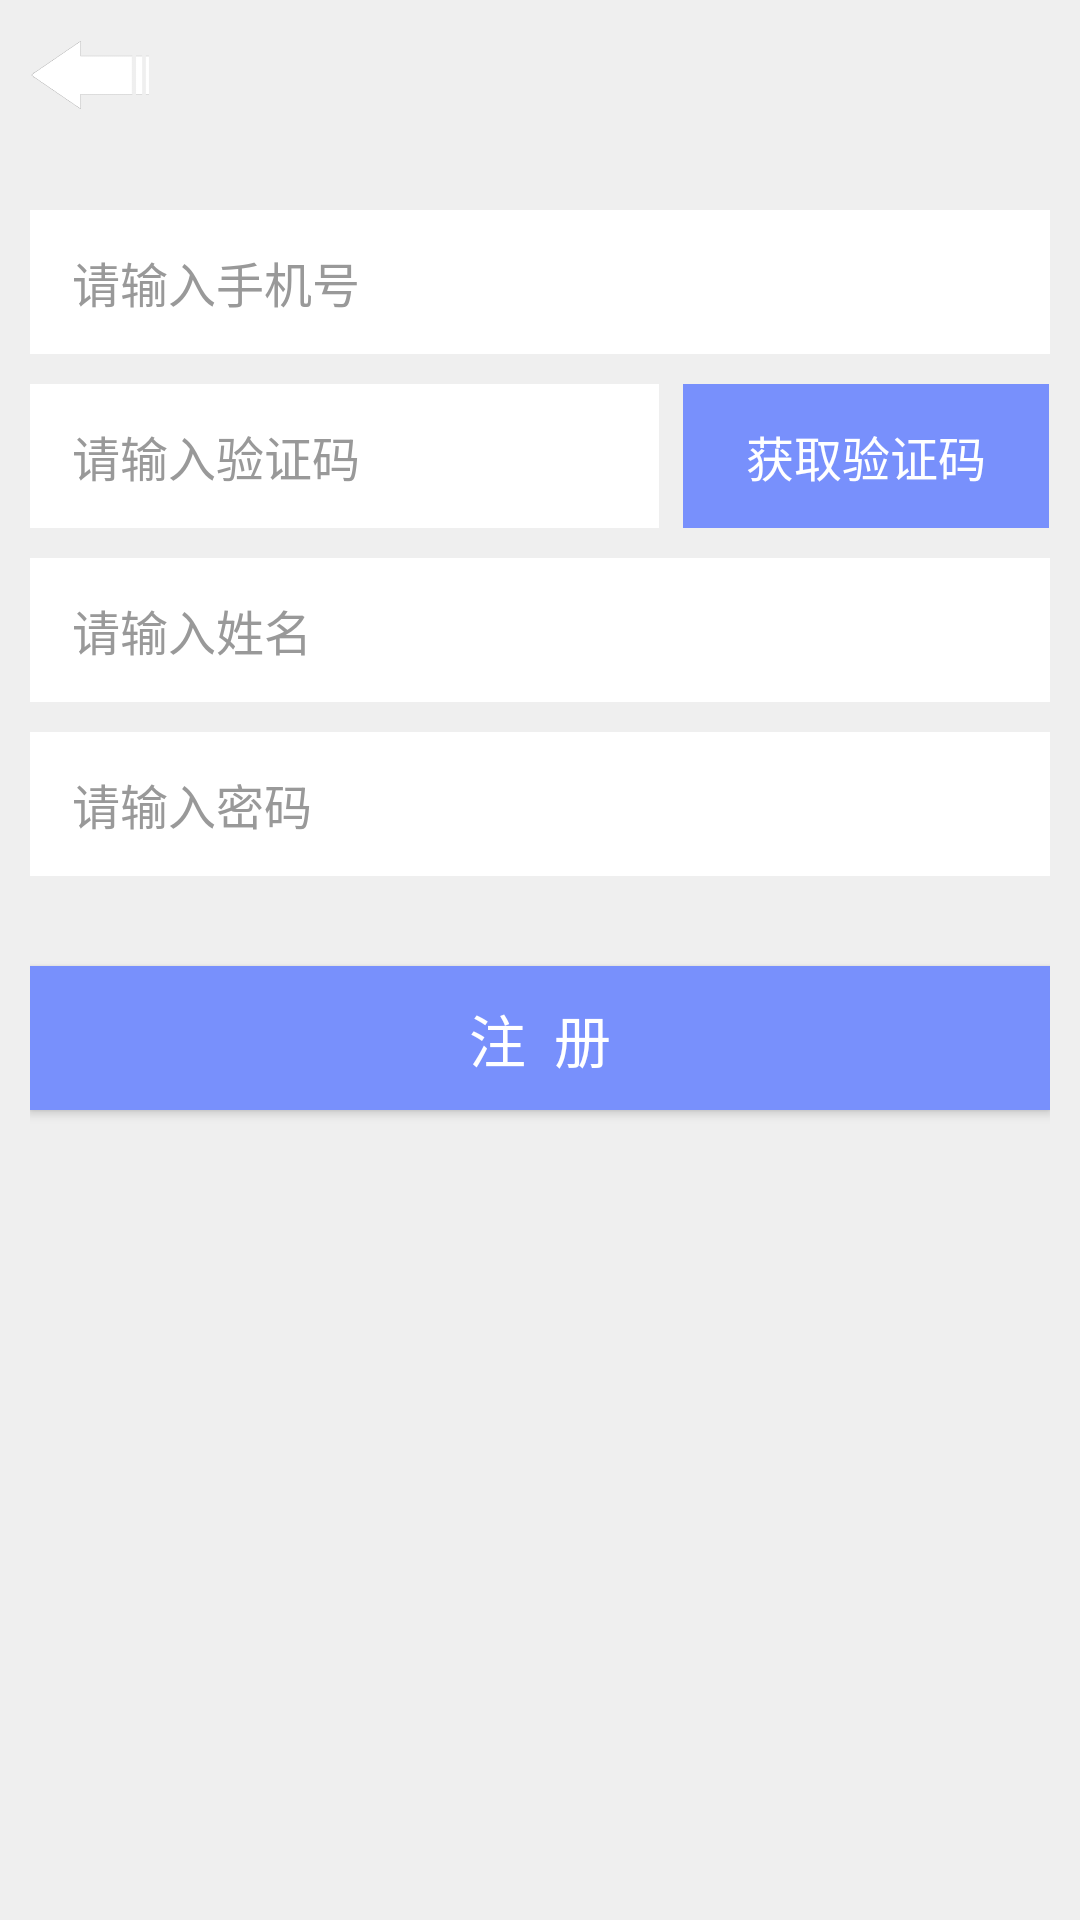

Where icons sit on this 1080px×1920px app screen, as rect(x1, y1, x2, y2):
back: rect(33, 41, 81, 109)
